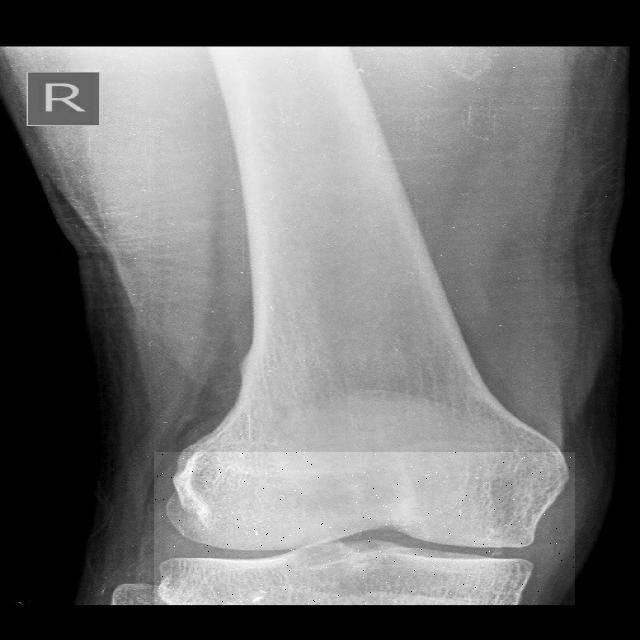normal: (154, 452, 575, 605)
